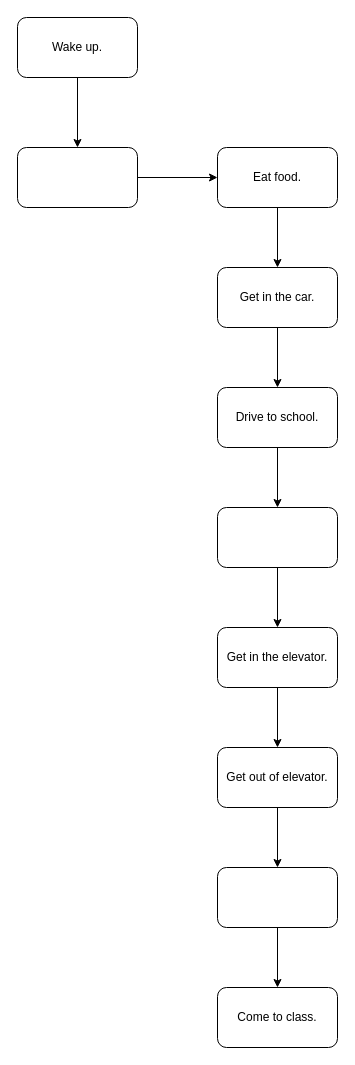
Some shapes in this 355 by 1065 pixel diagram are drawn without their labels. Each missing label, with the box of its shape:
Arrive at school.: (216, 506, 338, 568)
Check in.: (216, 866, 338, 928)
Take a bath.: (16, 146, 138, 208)
